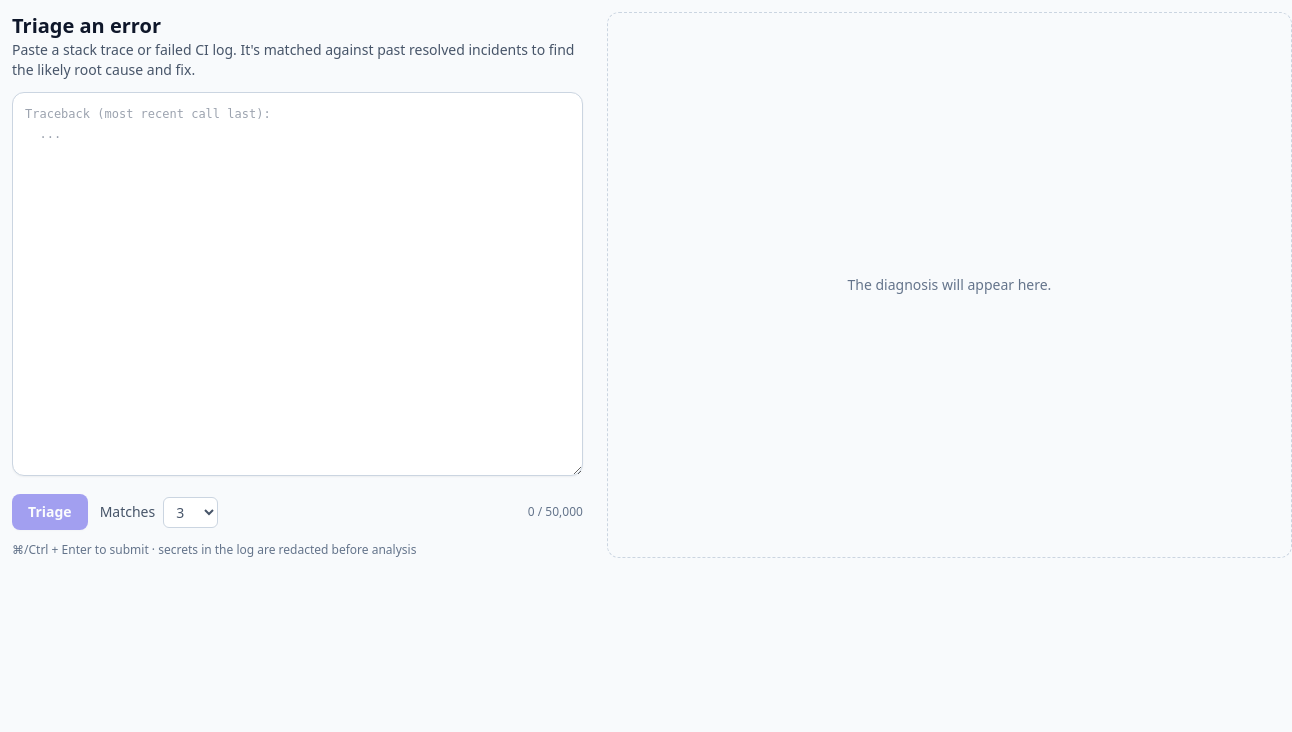
Test: TriagePage › shows the API's error message
In the text box: (297, 284) [12, 92, 583, 476], type "panic: assignment to entry in nil map"
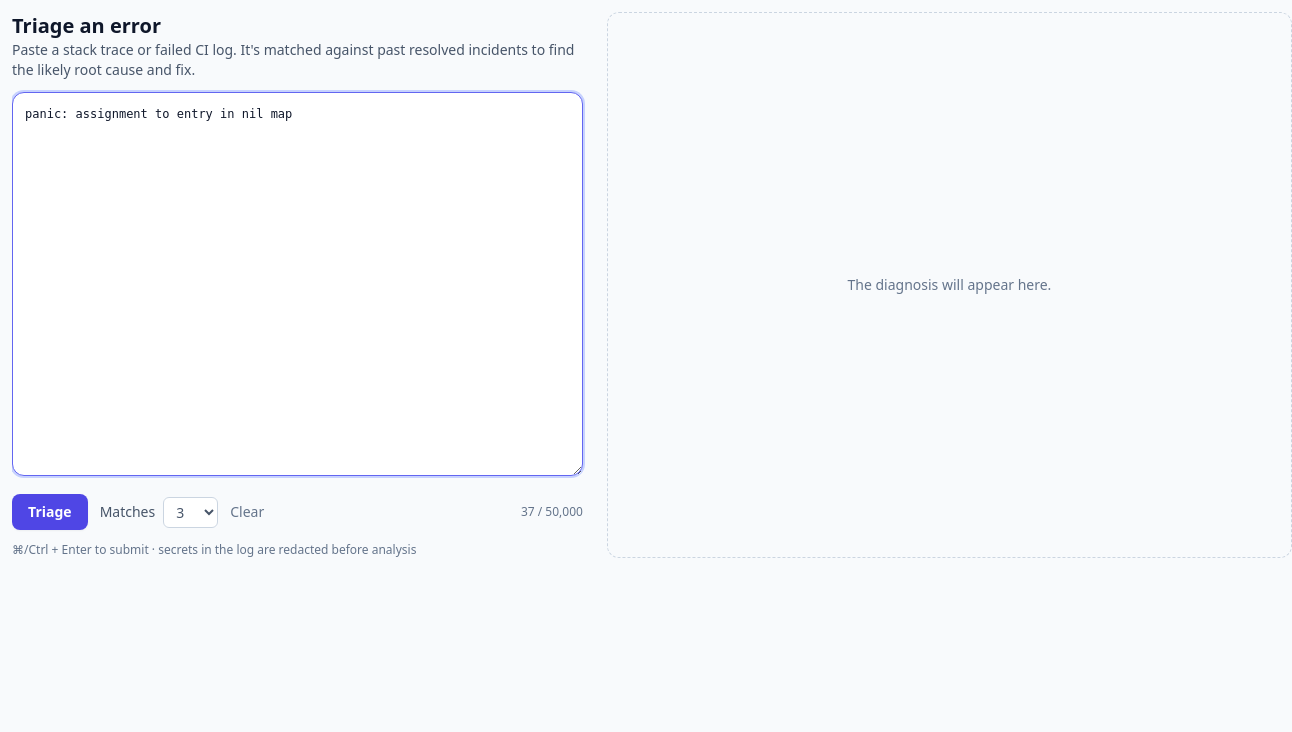
Click the button "Triage": (50, 512) [12, 494, 88, 530]
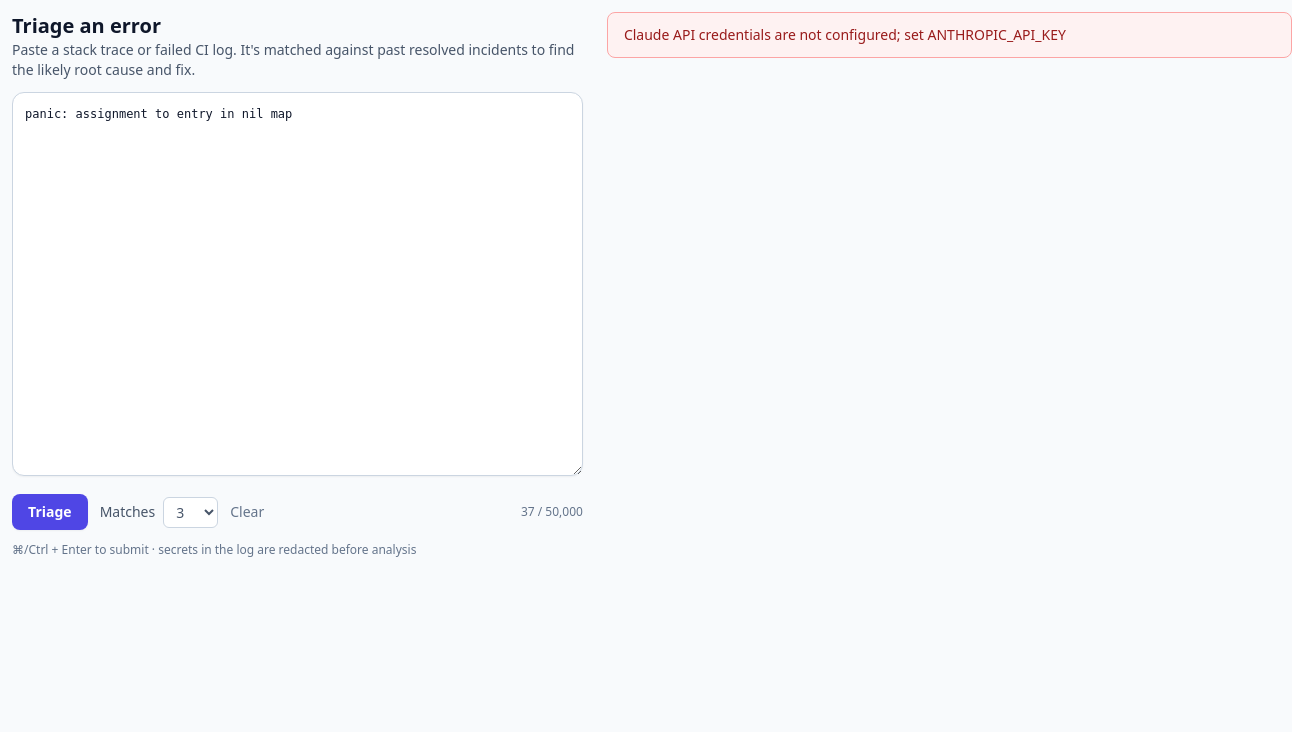
Expected: the message shows "ANTHROPIC_API_KEY", [624, 25, 1066, 44]
